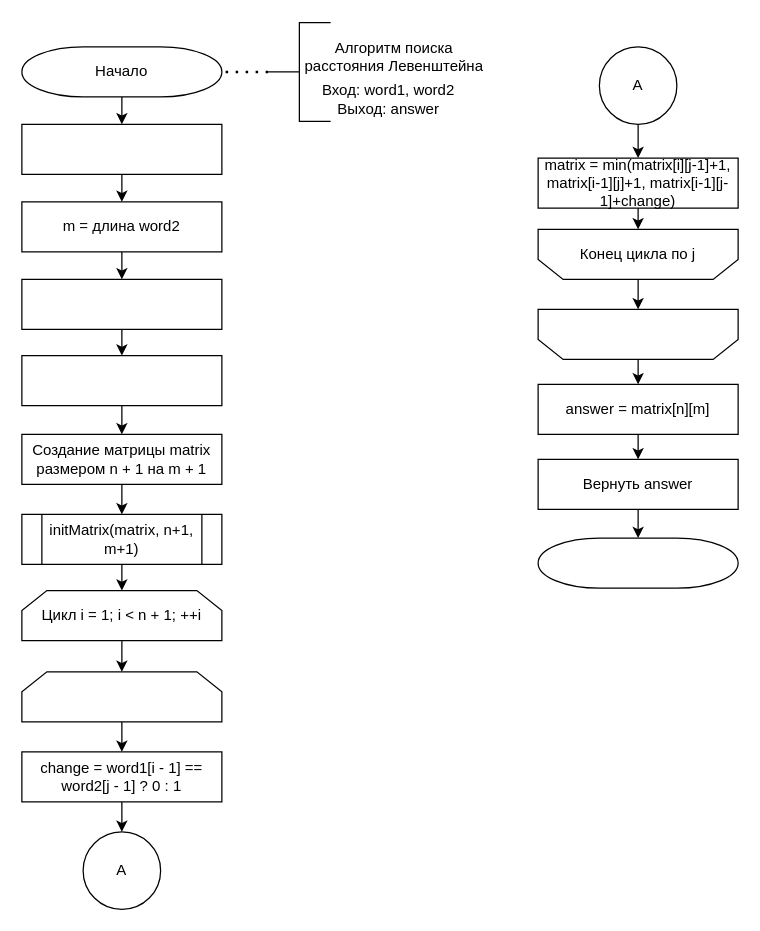
Some shapes in this 760 by 931 pixel diagram are drawn without their labels. The centre of each missing label's shape, as x and y in pixels:
"answer = 0" goes at [121,303].
"change = 0" goes at [121,380].
"n = длина word1" goes at [121,148].
"Конец" goes at [637,562].
"Конец цикла по i" goes at [637,333].
"Цикл j = 1; j < m + 1; ++j" goes at [121,696].
